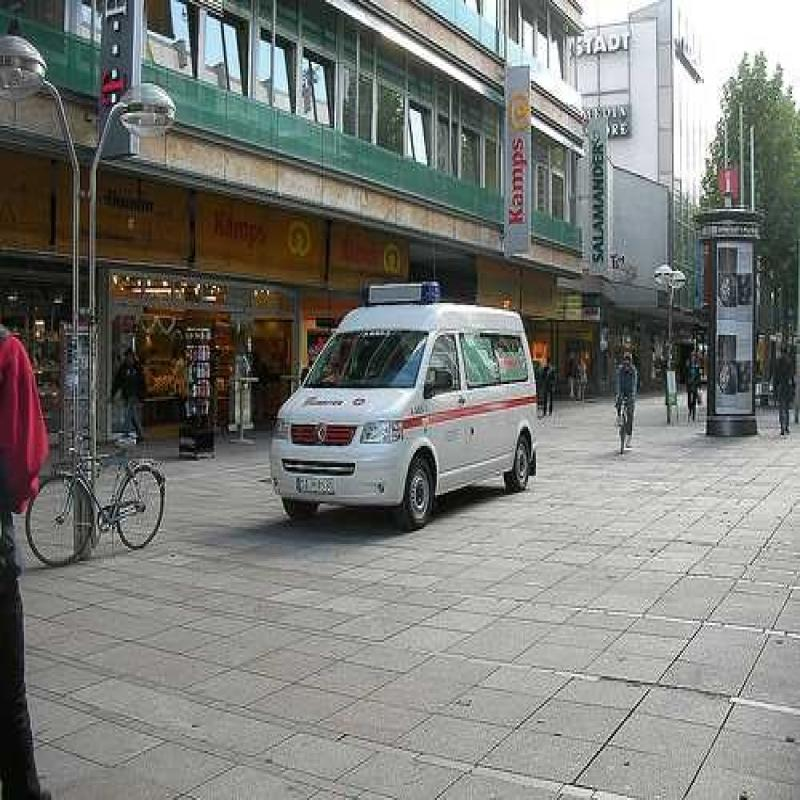AmbulanceSiren: (352, 259, 441, 315)
